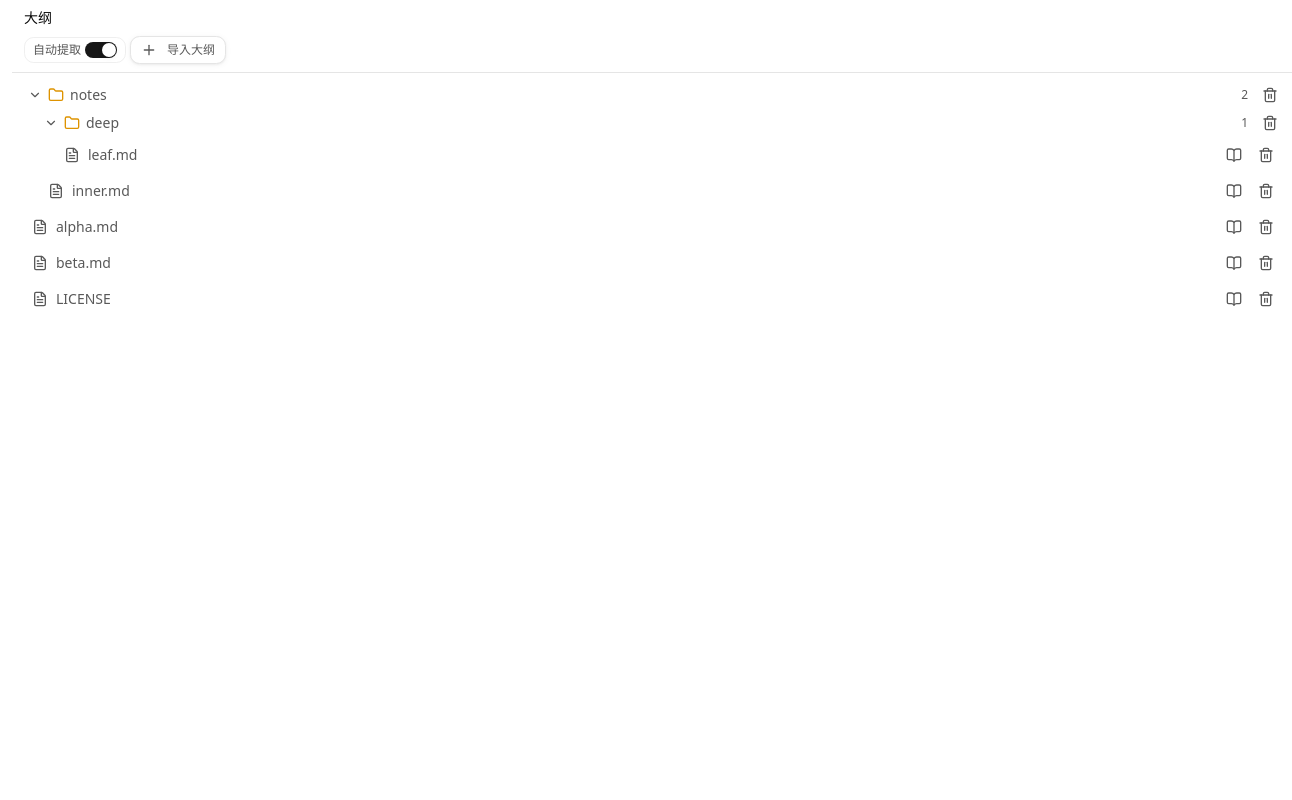
it: SourceSidebar — 空白右键创建菜单 / 文件菜单 › 创建菜单/文件菜单可通过文档 mousedown 与键盘关闭
Expected: the text "alpha.md" is shown, [56,217,118,237]
Right-click the element with class "flex-col".
right_click(652, 162)  # box [12,0,1291,325]
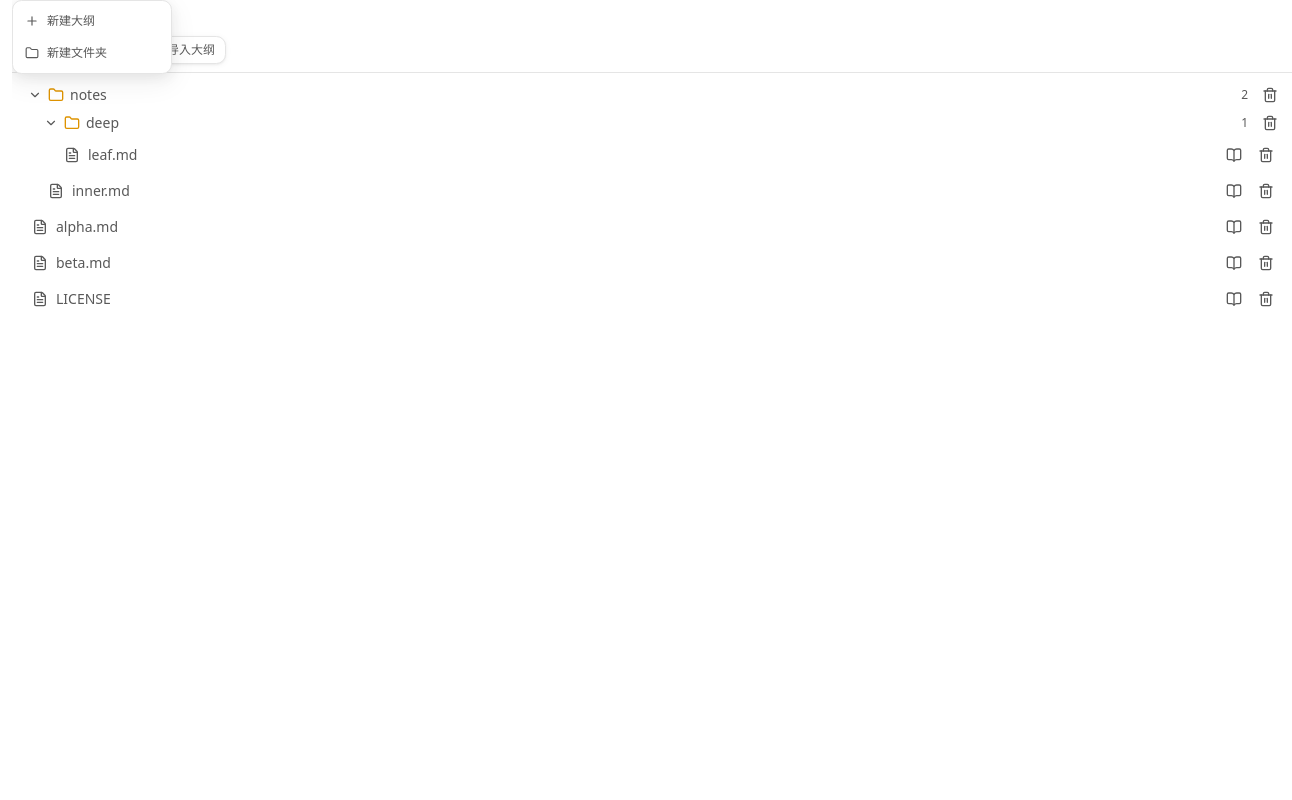
Expected: the button "新建大纲" is shown, [13,5,171,37]
Press the mouse on the element that starts with "自动提取" at (652, 400), box [12,0,1291,799]
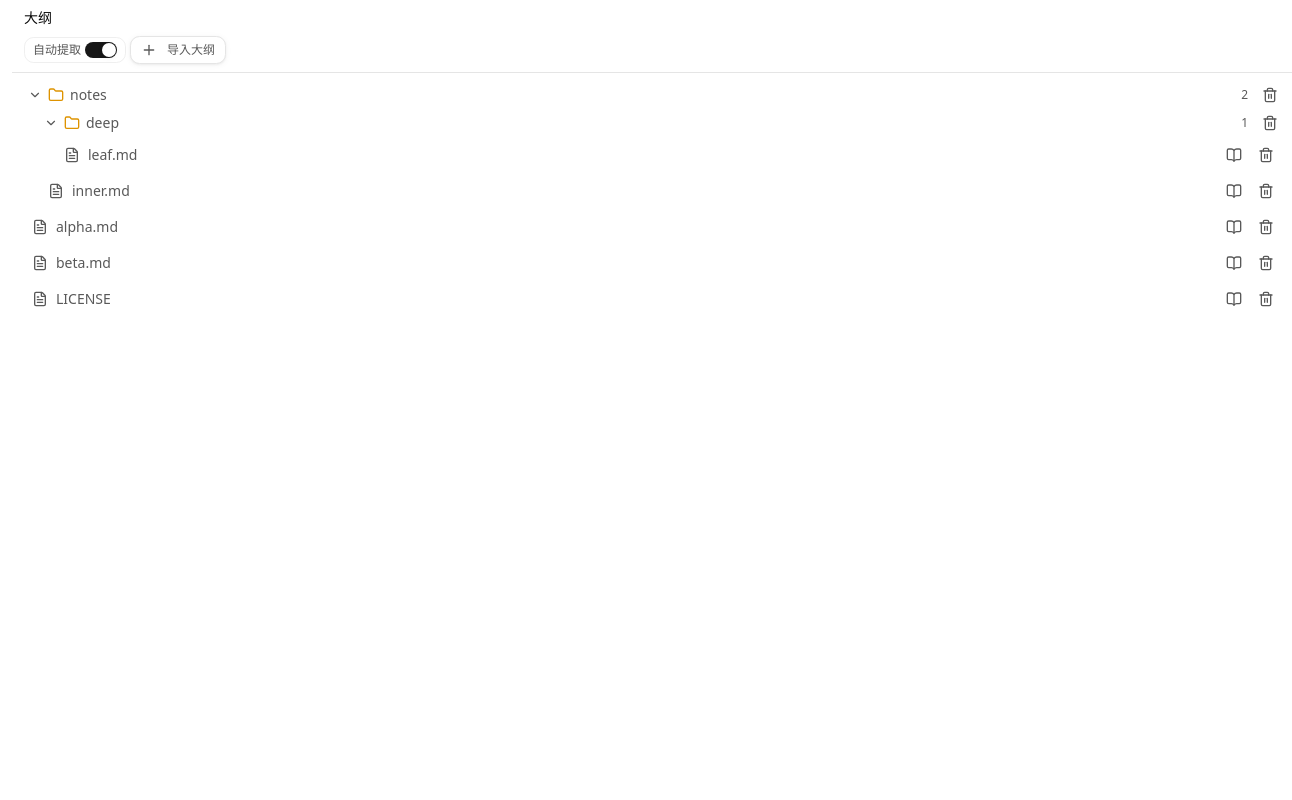
Expected: the button "新建大纲" is gone
Right-click the element with class "flex-col".
right_click(652, 162)  # box [12,0,1291,325]
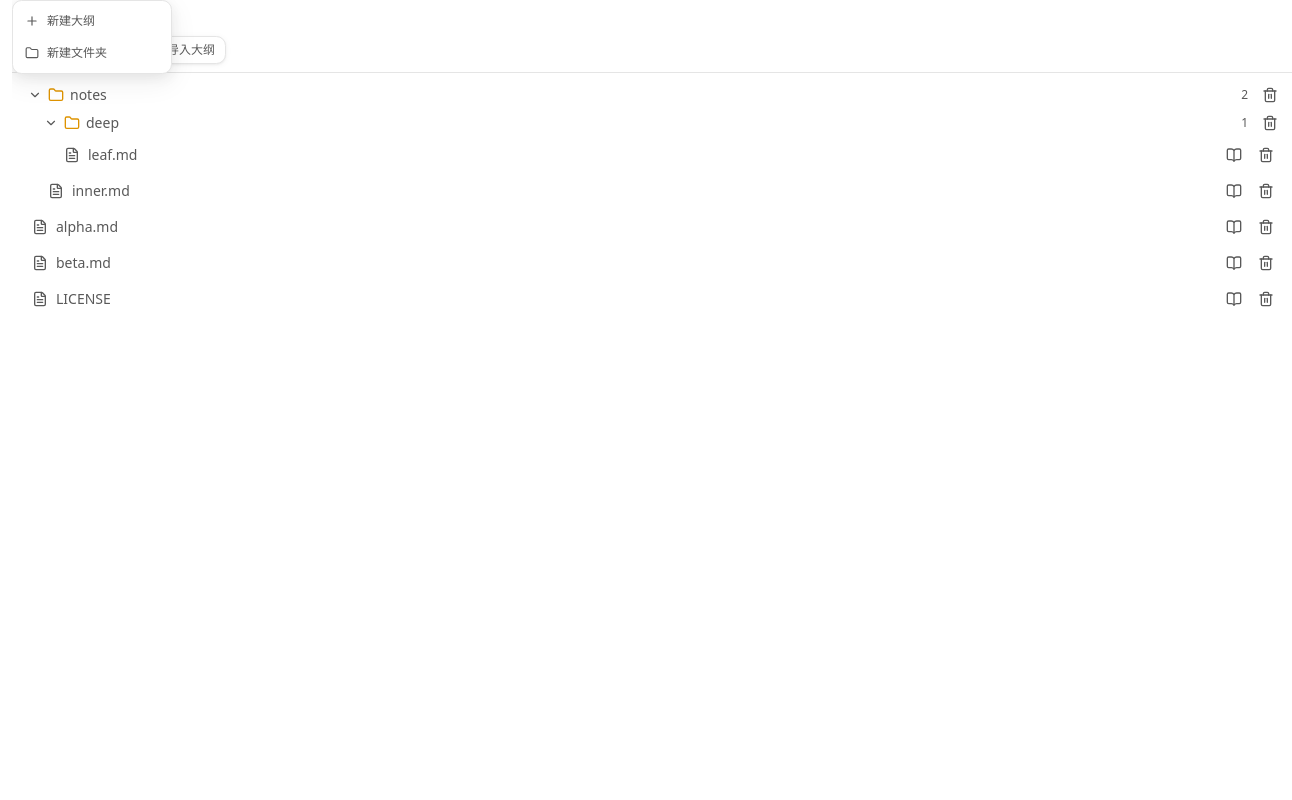
Expected: the button "新建大纲" is shown, [13,5,171,37]
Press Escape
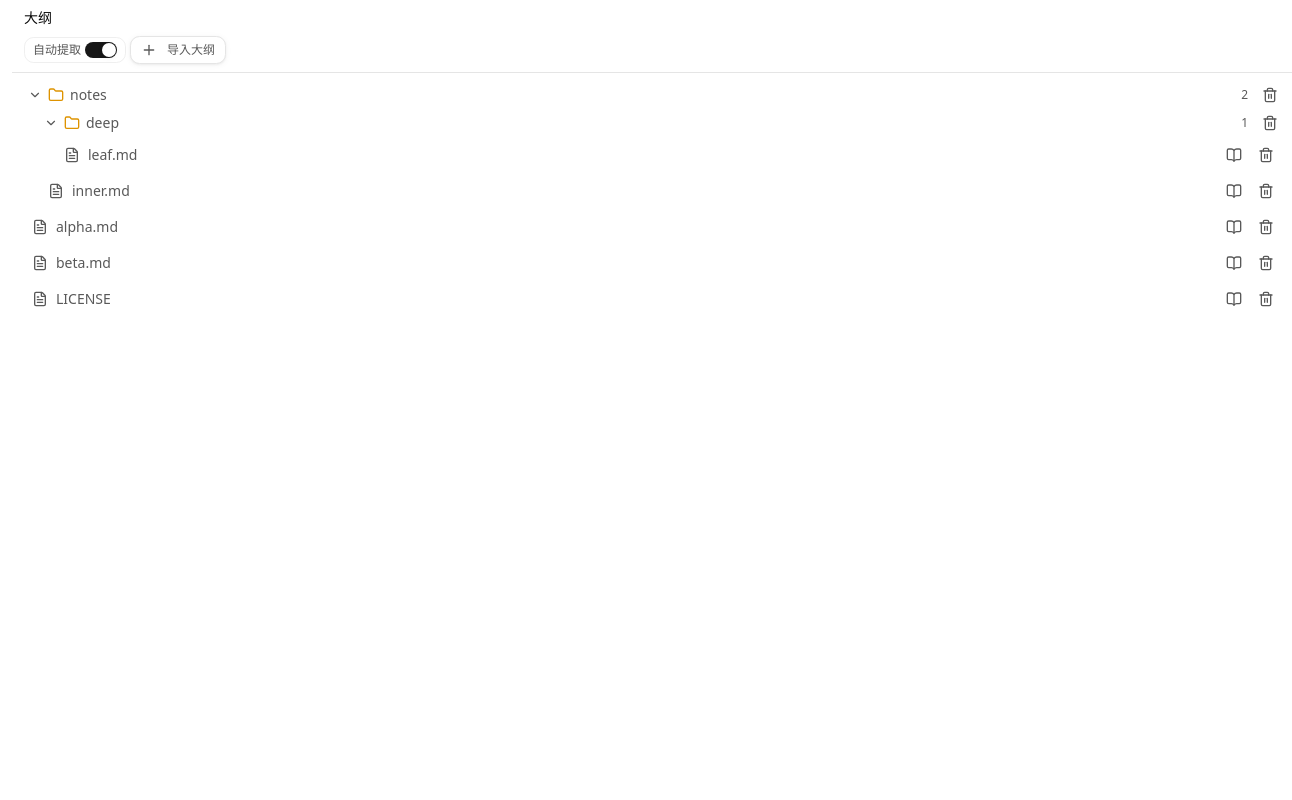
Expected: the button "新建大纲" is gone
